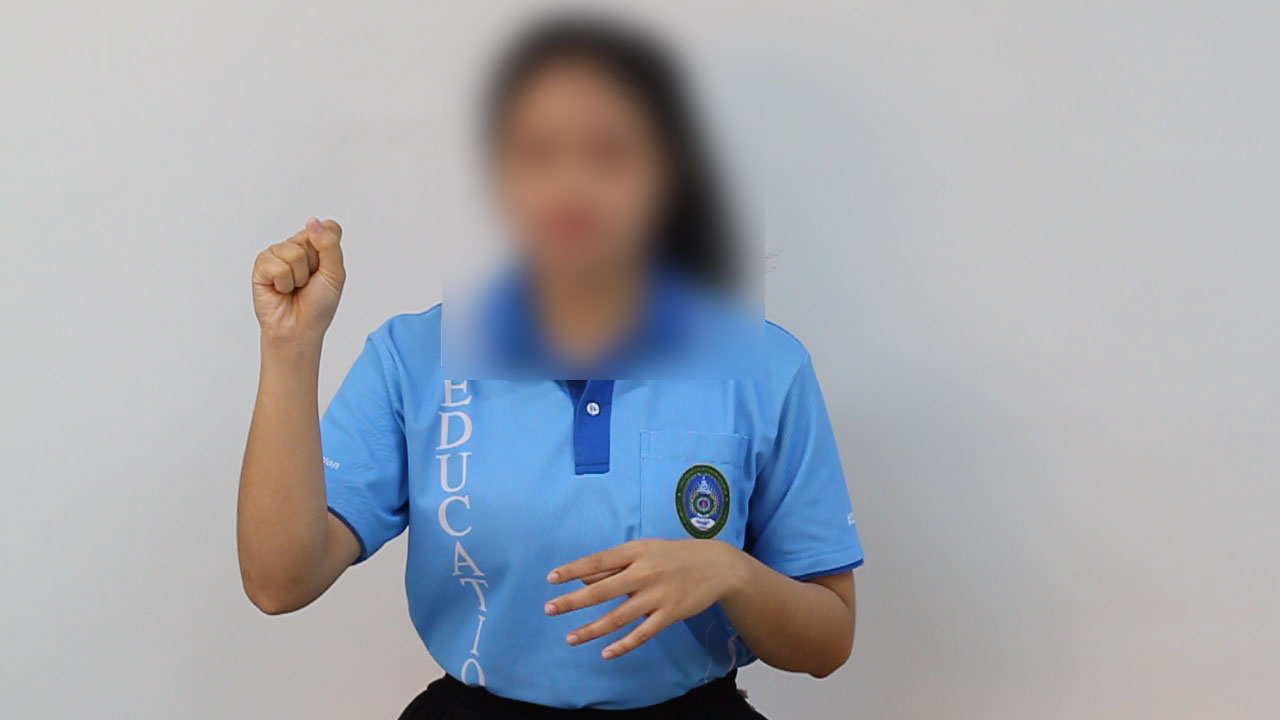sor: (237, 207, 360, 353)
